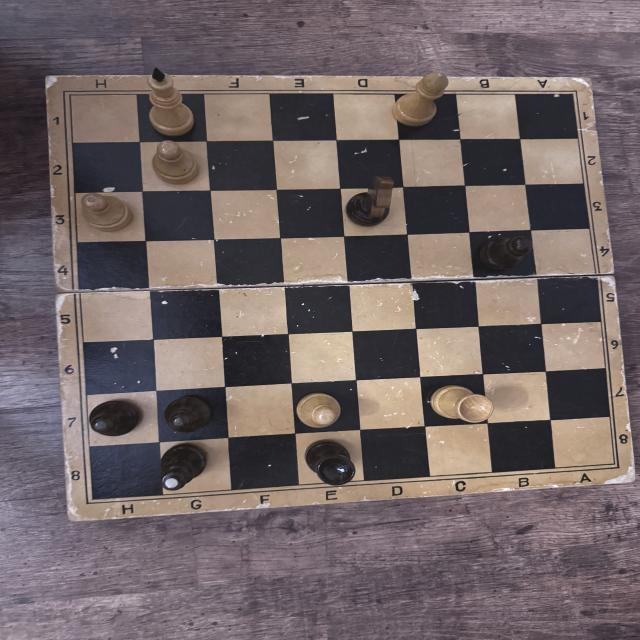black-king: (157, 442, 206, 490)
black-knight: (346, 176, 395, 228)
black-pawn: (88, 398, 140, 437), (164, 396, 215, 434), (482, 234, 533, 271)
black-rook: (304, 439, 360, 486)
white-bishop: (392, 71, 450, 128)
white-king: (146, 66, 197, 136)
white-pawn: (146, 139, 204, 184), (77, 192, 135, 232), (294, 392, 345, 430)
white-rook: (431, 384, 495, 425)
